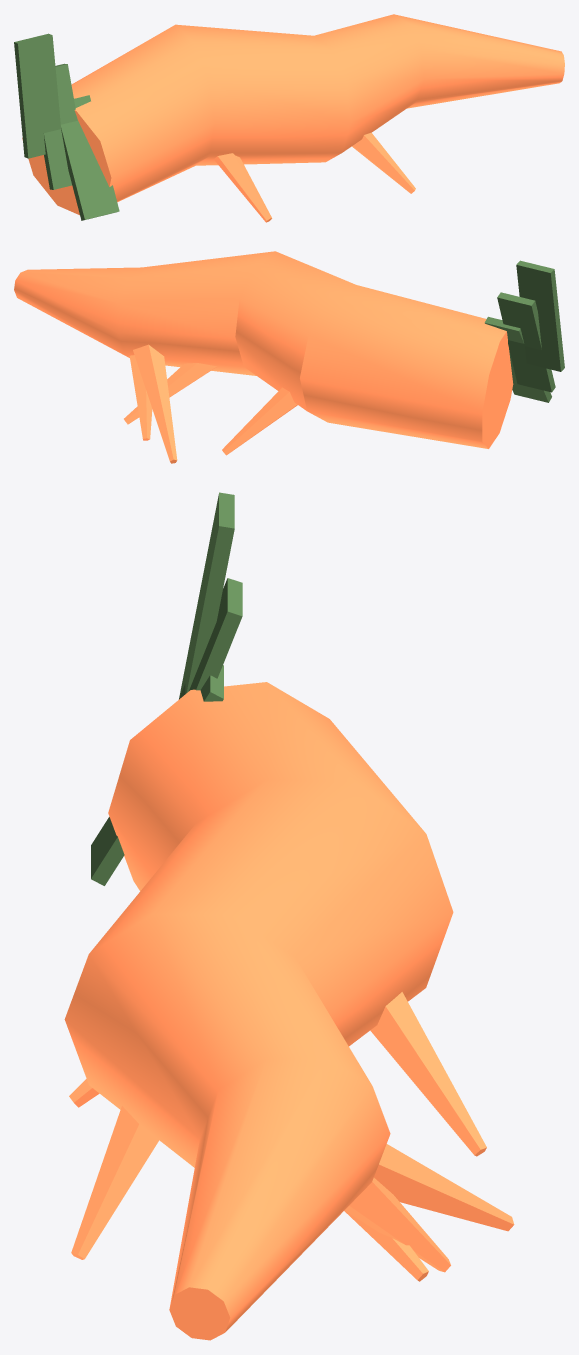
Rendered from emberroot.glb.
The picture shows the model from 3 angles, top to bottom: view 1: azimuth 30°, elevation 25°; view 2: azimuth 150°, elevation 25°; view 3: azimuth 270°, elevation 25°; orthographic projection. The views are drawn at different scales.
Visible parts, largest first — view 1: emberroot; view 2: emberroot; view 3: emberroot.
Part boxes in pixels (x1,y1,x2,y2): emberroot: (14,14,564,222); emberroot: (14,251,564,463); emberroot: (64,492,514,1340).
Size of the model in its own units: 0.1563 by 0.0604 by 0.0565.
